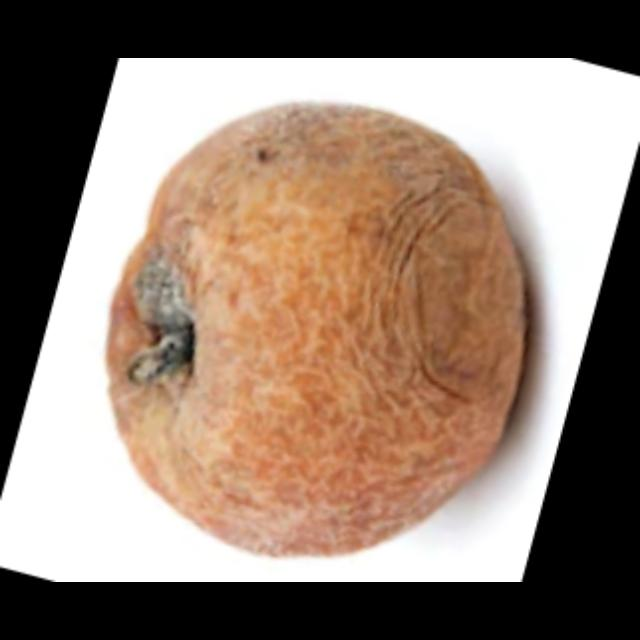Apel Tidak Segar: (110, 97, 534, 561)
